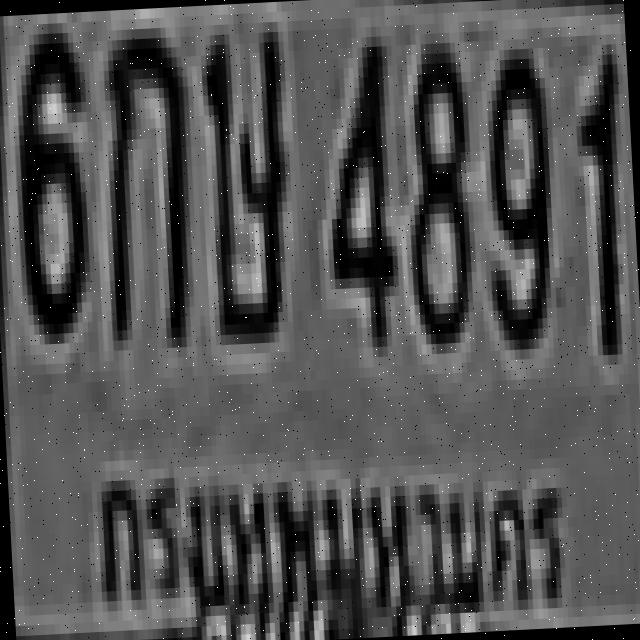1: (572, 44, 628, 346)
10GorGai: (92, 17, 192, 341)
4: (317, 22, 397, 344)
48SorRueSi: (198, 12, 294, 336)
6: (5, 12, 90, 336)
8: (396, 32, 476, 346)
9: (474, 38, 554, 341)
Bangkok: (90, 436, 570, 640)
